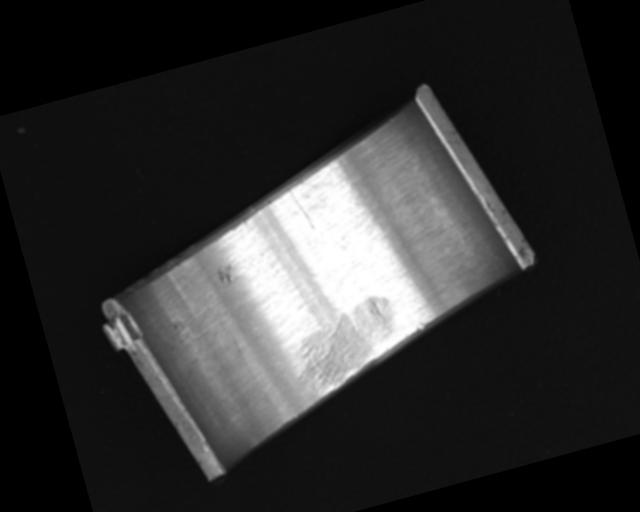bruise: (214, 261, 236, 286), (414, 320, 426, 332)
nick: (286, 183, 317, 234)
scratch: (281, 291, 411, 398)
